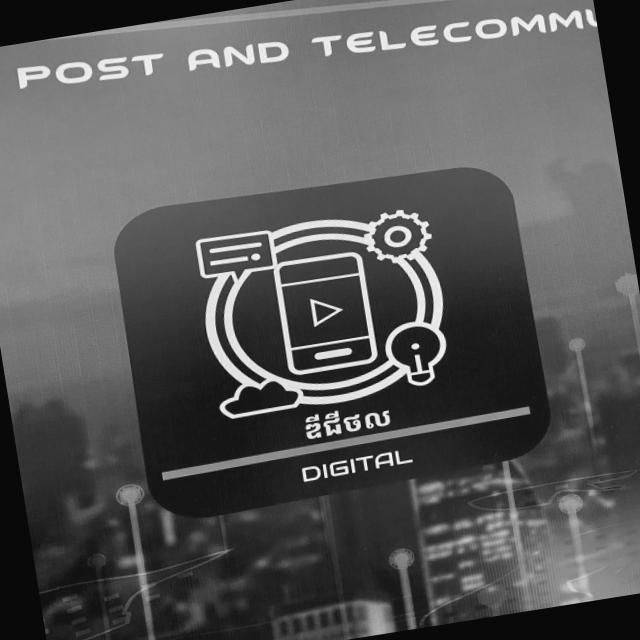Yolov11kh: (296, 399, 405, 445)
